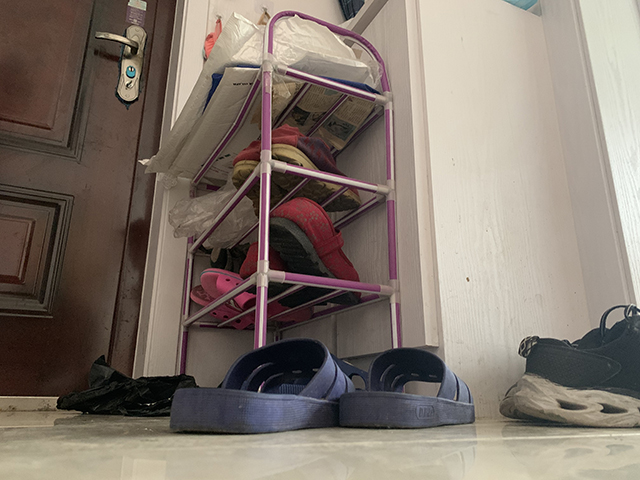cabinet: (278, 1, 594, 422)
slippers: (166, 336, 358, 435), (343, 344, 478, 430)
